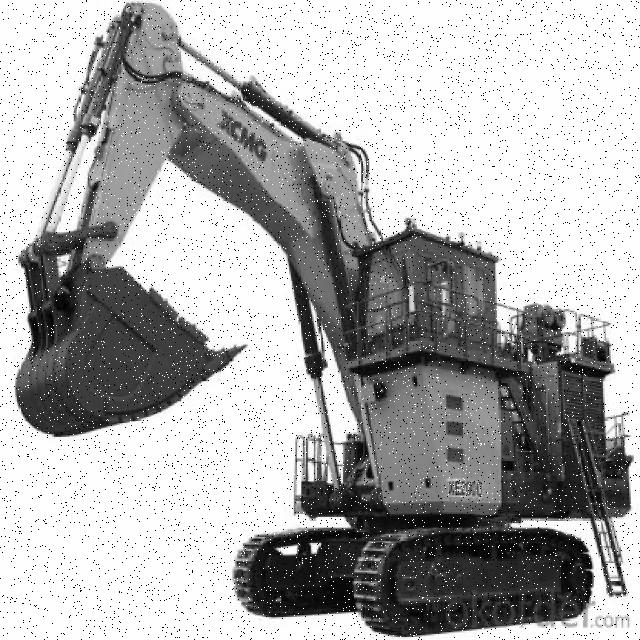Construction Equipment: (14, 2, 634, 638)
